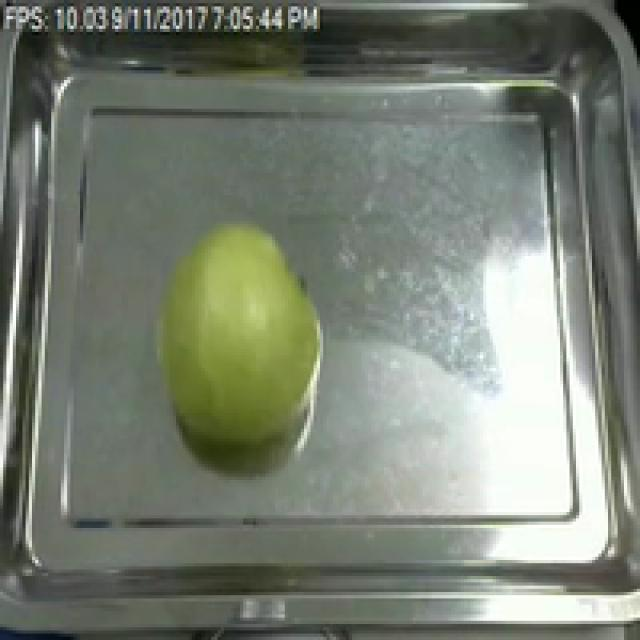Fruit: (141, 215, 333, 468)
